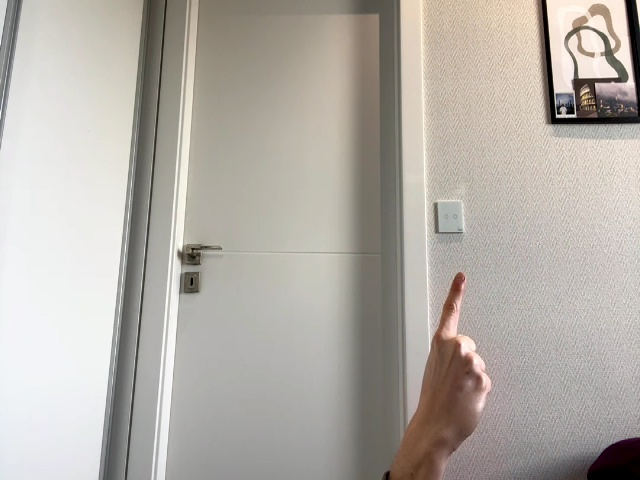D: (417, 273, 492, 446)
